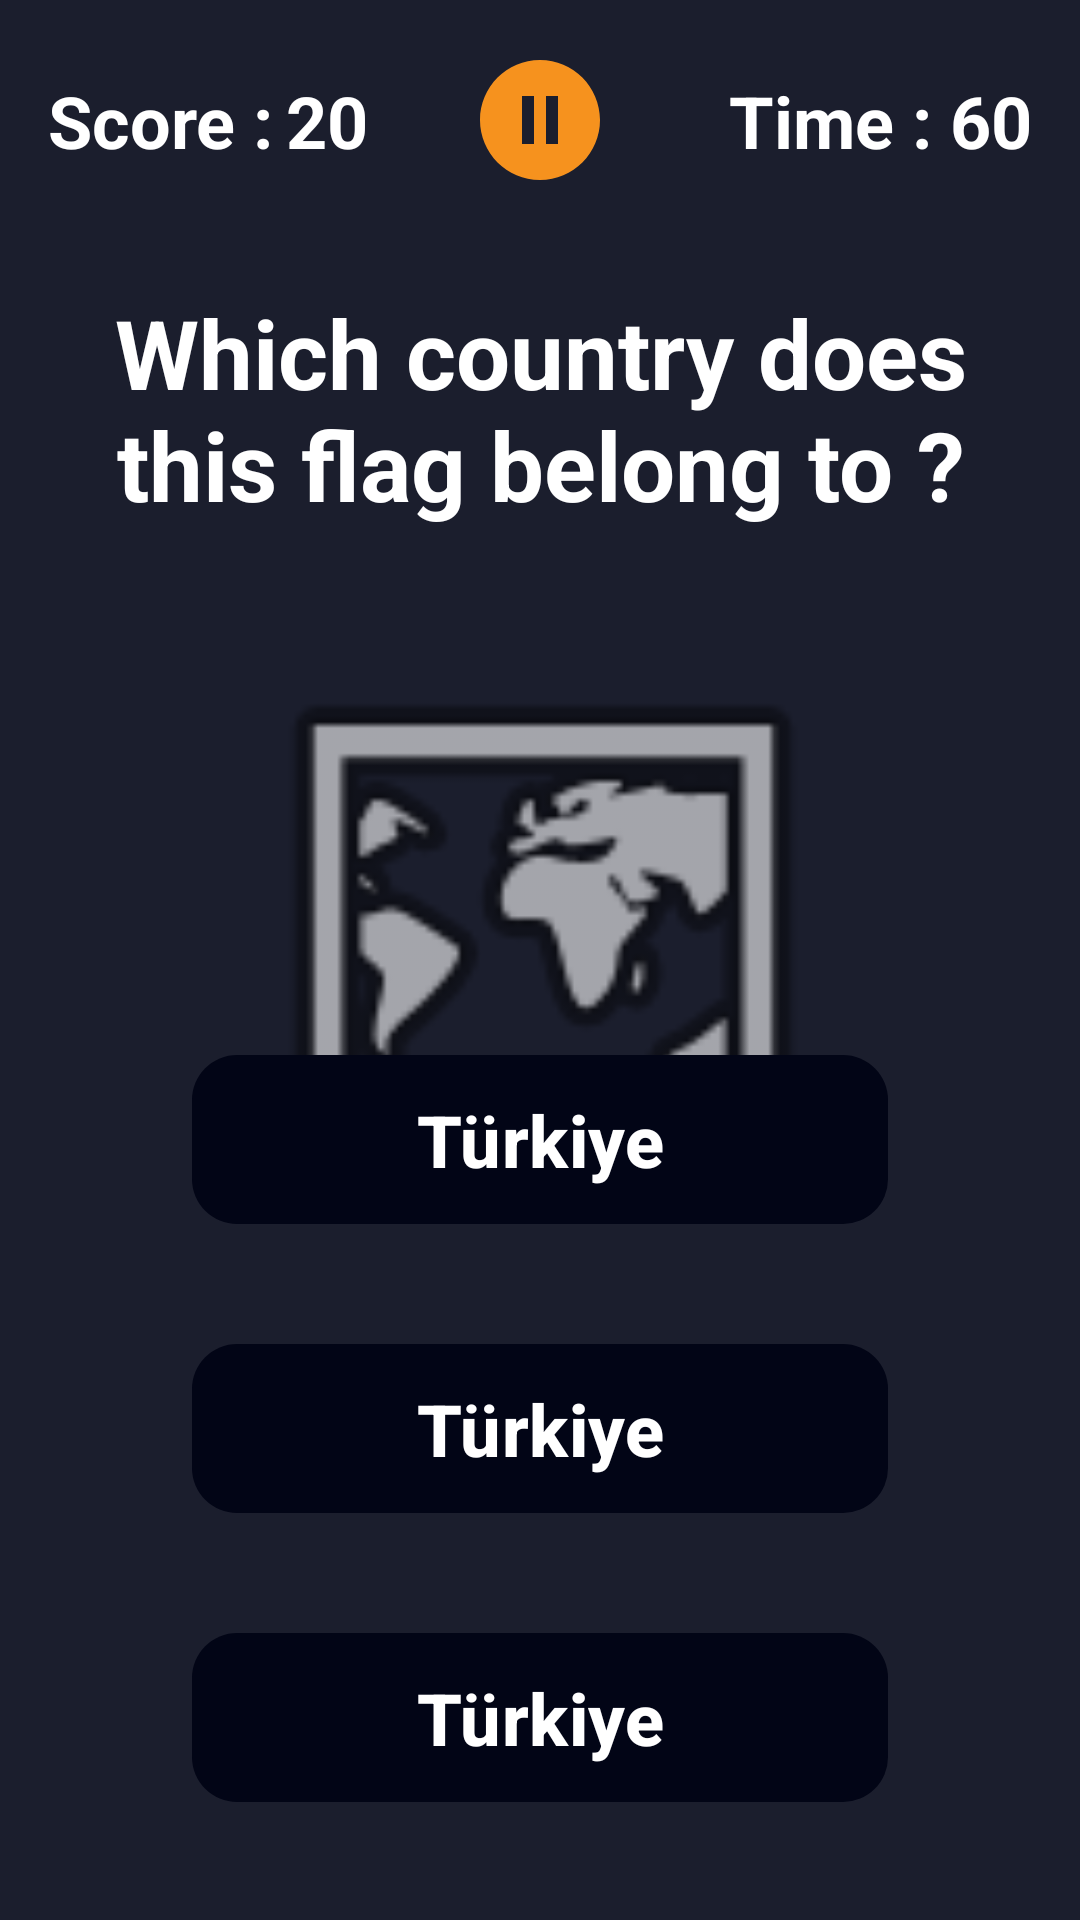

Point at icon controls on the screen. Image size 1080px x 1920px, points as [x,y].
pause: [540,120]
